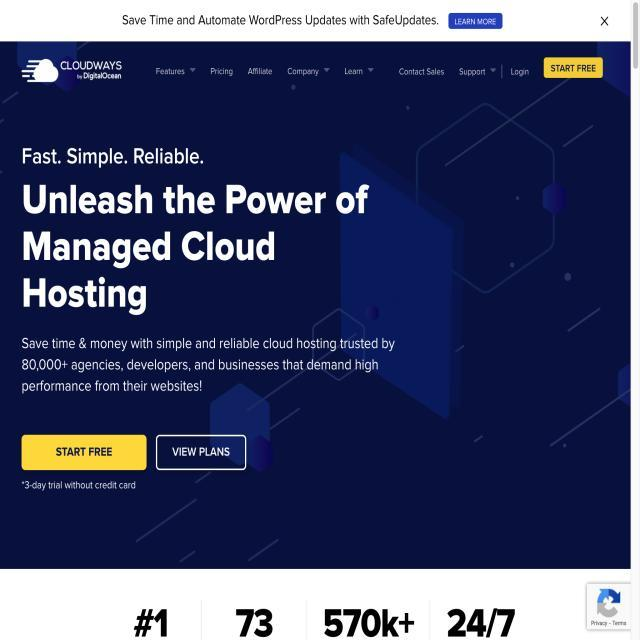button: (20, 433, 149, 473), (155, 434, 248, 474), (541, 55, 606, 83), (447, 10, 504, 32)
